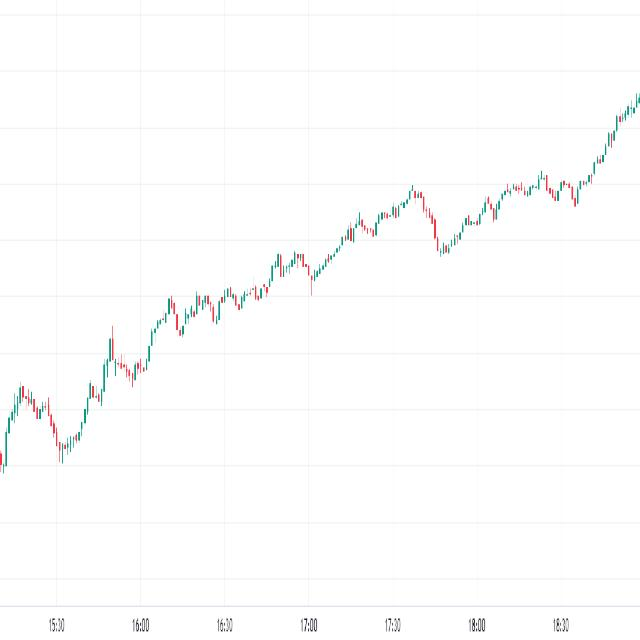Channel-up: (67, 125, 450, 469)
